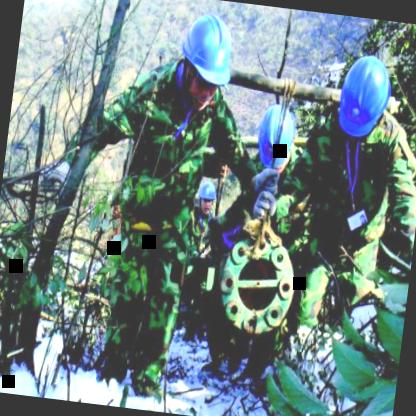helmet: (172, 6, 240, 113), (334, 50, 398, 150), (248, 97, 296, 182), (191, 176, 220, 216)
